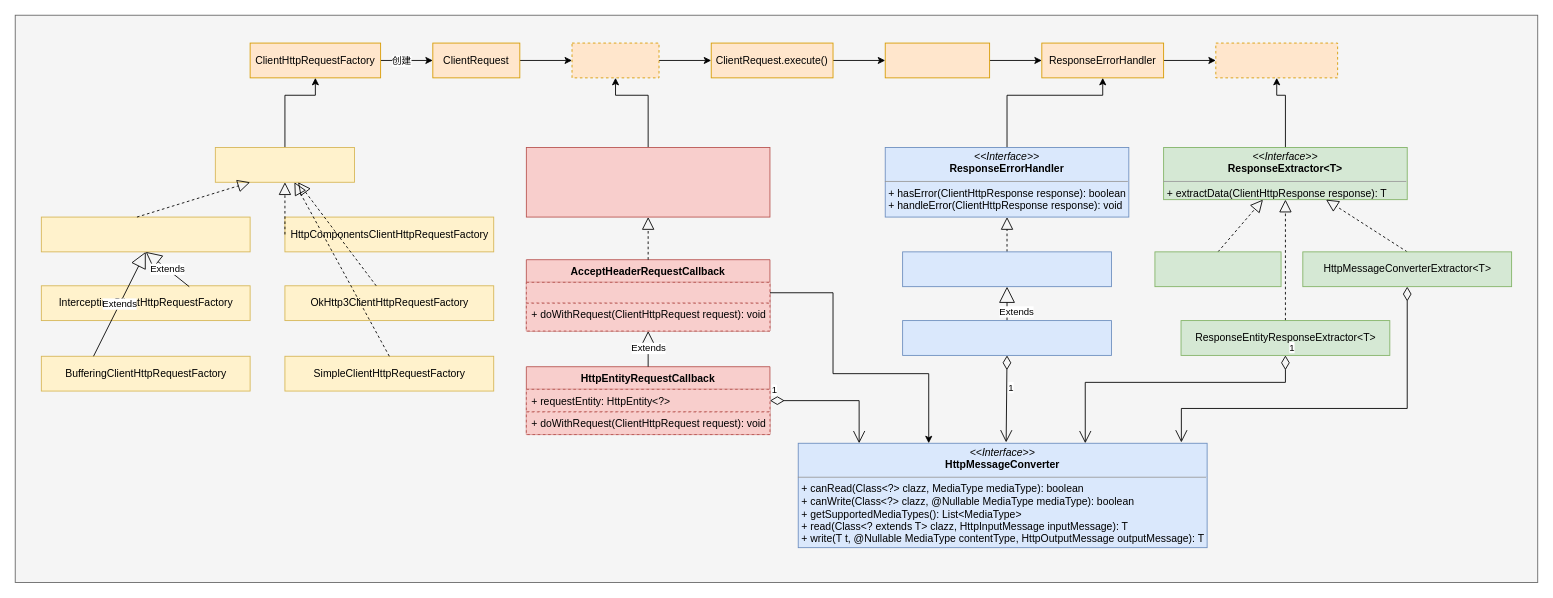
Some shapes in this 1553 by 598 pixel diagram are drawn without their labels. The shapes that lost their labels are listed below. From the top down, each one's centre as x and y in pixels, then its label:
At (615,60): "RequestCallback".
At (937,60): "ClientHttpResponse".
At (1276,60): "ResponseExtractor".
At (284,164): "«interface» ClientHttpRequestFactory".
At (647,182): "<<Interface>> RequestCallback + doWithRequest(ClientHttpRequest request): void".
At (145,234): "AbstractClientHttpRequestFactoryWrapper".
At (1006,269): "DefaultResponseErrorHandler".
At (1217,269): "HeadersExtractor".
At (647,292): "+ responseType: Type".
At (1006,337): "ExtractingResponseErrorHandler".
